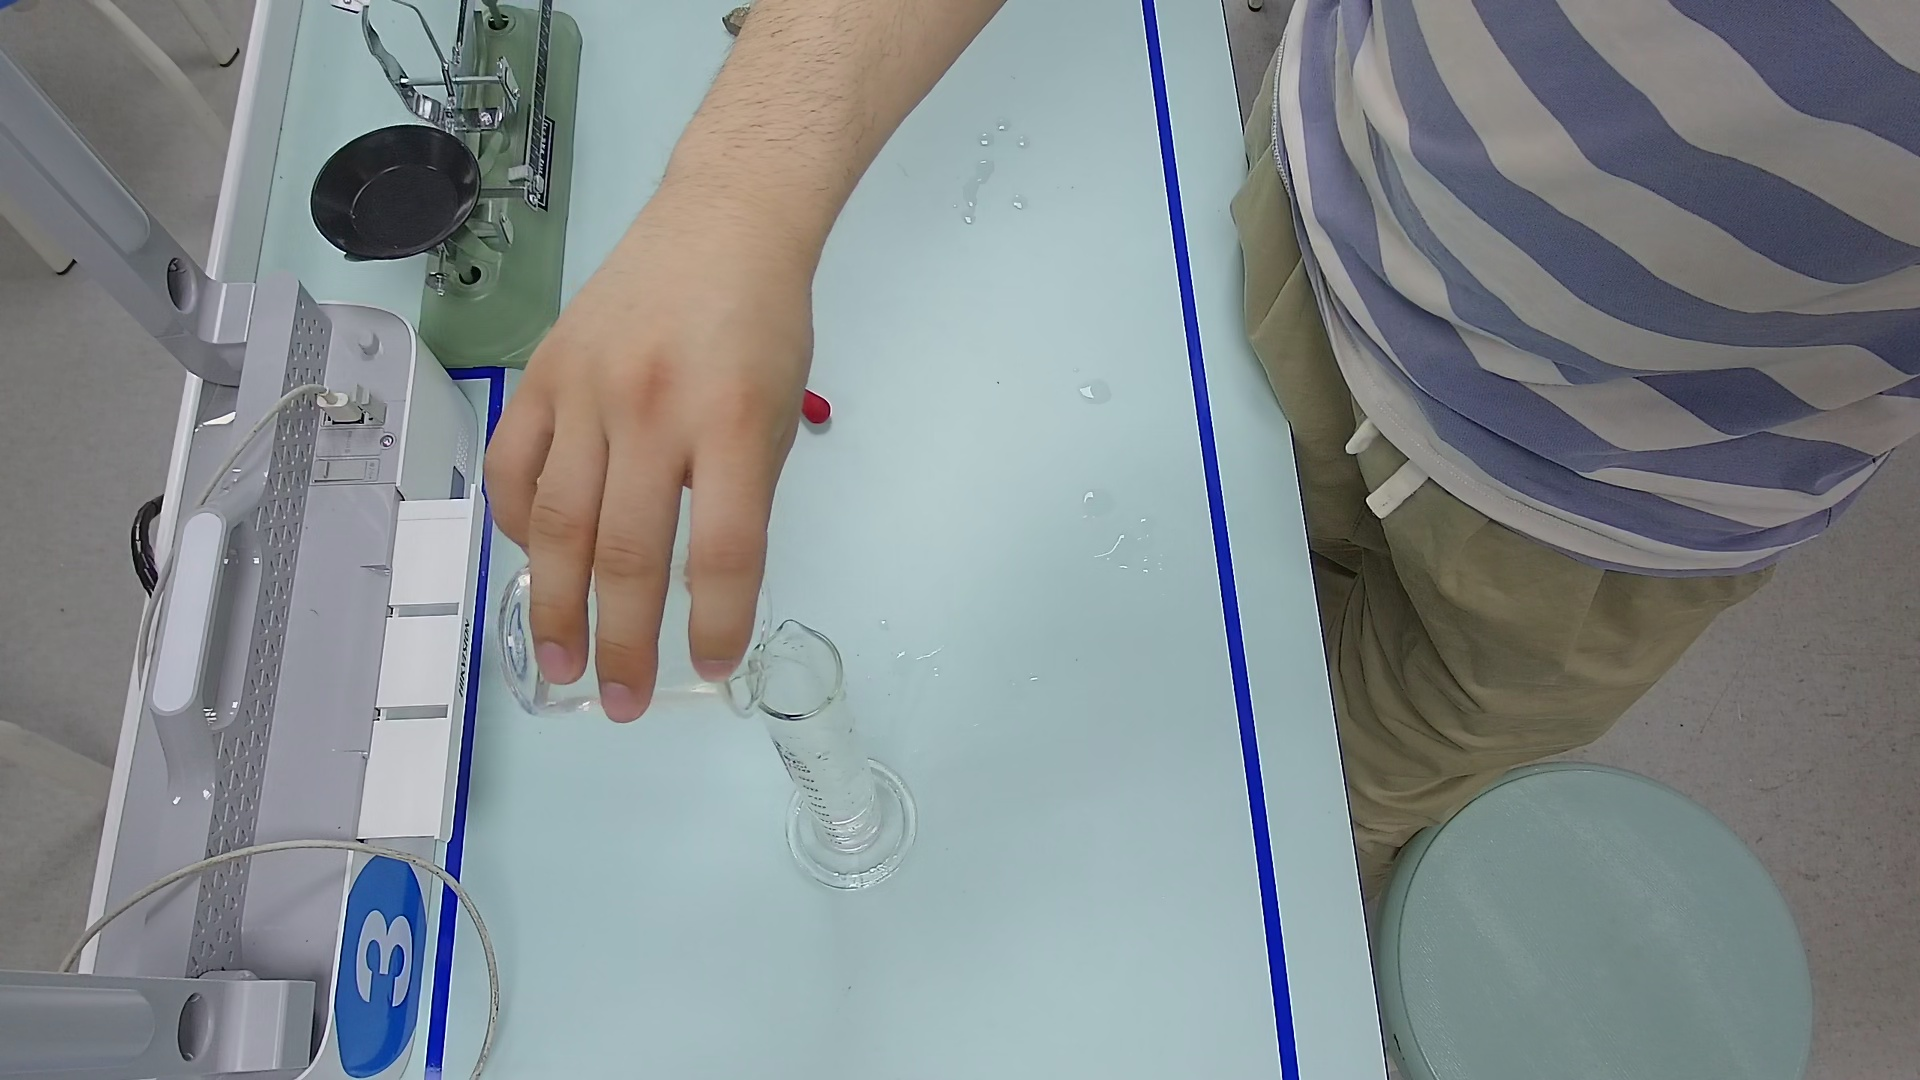ao: (795, 764, 872, 815)
bei: (501, 533, 774, 727)
diguantou: (796, 378, 843, 433)
hand: (498, 338, 804, 703)
liangdi: (770, 766, 905, 890)
liangtong: (731, 615, 916, 881)
shi: (719, 5, 774, 47)
tuo: (309, 113, 493, 258)
